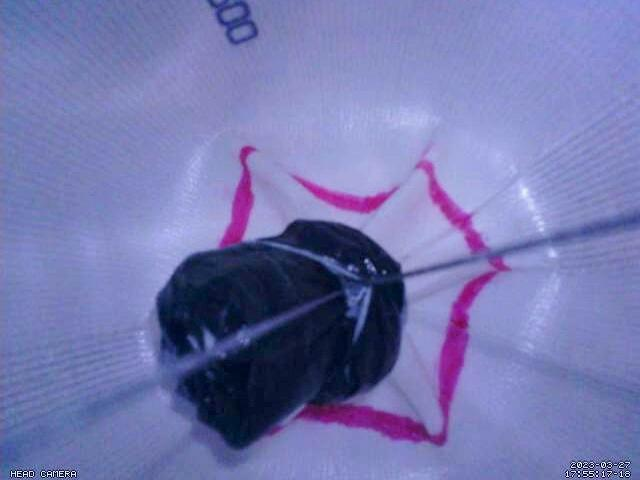red-circle: (217, 145, 510, 449)
